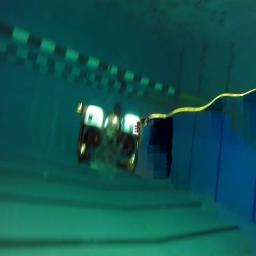front: (75, 102, 142, 172)
